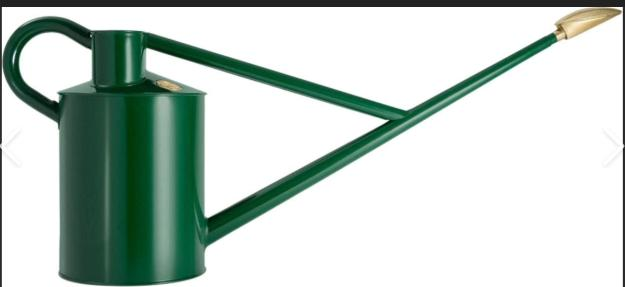ARROSOIR: (1, 7, 621, 286)
